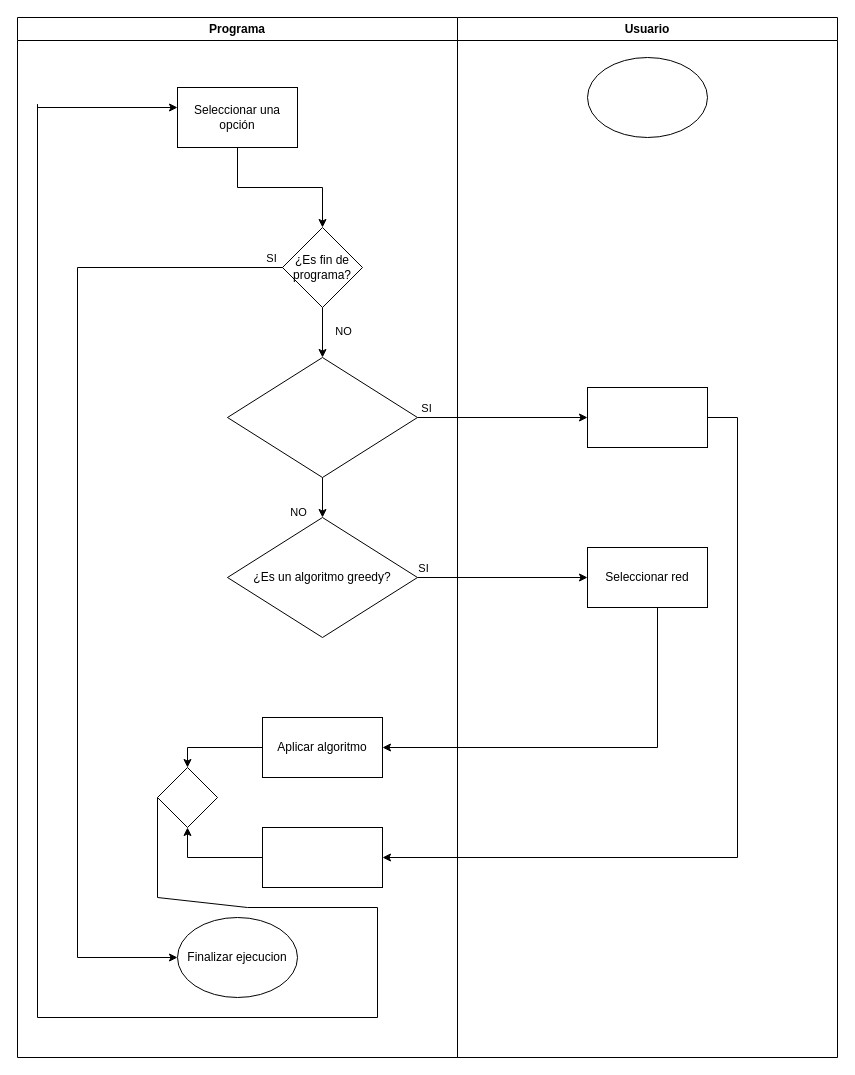
Image size: 855x1075. Some labels were removed from this diagram. Here are the shapes that lost their labels. From the top down, the box of each, then its label:
(586, 56, 708, 138): Iniciar ejecución
(226, 356, 418, 478): ¿Es el generador de redes sintéticas?
(586, 386, 708, 448): Definir tamaño de la red a generar
(262, 826, 382, 888): Generar red
